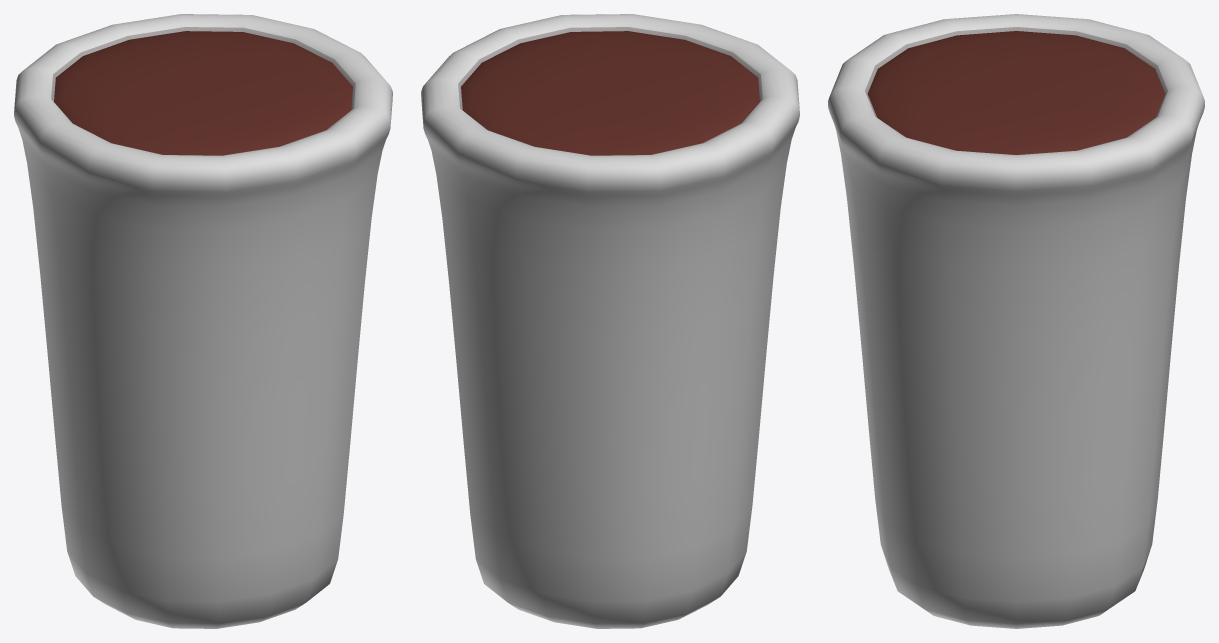
File: cup2-coffee.fbx
3 renders of one model, left to right at view 1: azimuth 30°, elevation 25°; view 2: azimuth 150°, elevation 25°; view 3: azimuth 270°, elevation 25°, orthographic.
Visible parts, largest first — view 1: Cube, Cube.002; view 2: Cube, Cube.002; view 3: Cube, Cube.002.
Boxes of the visible parts, left/top/right/bottom form: Cube: left=14, top=14, right=392, bottom=628; Cube.002: left=54, top=31, right=352, bottom=155; Cube: left=421, top=14, right=799, bottom=628; Cube.002: left=461, top=31, right=759, bottom=155; Cube: left=828, top=14, right=1204, bottom=628; Cube.002: left=867, top=31, right=1165, bottom=154.
Bounding box in the file's own units: 182 × 269 × 182.
